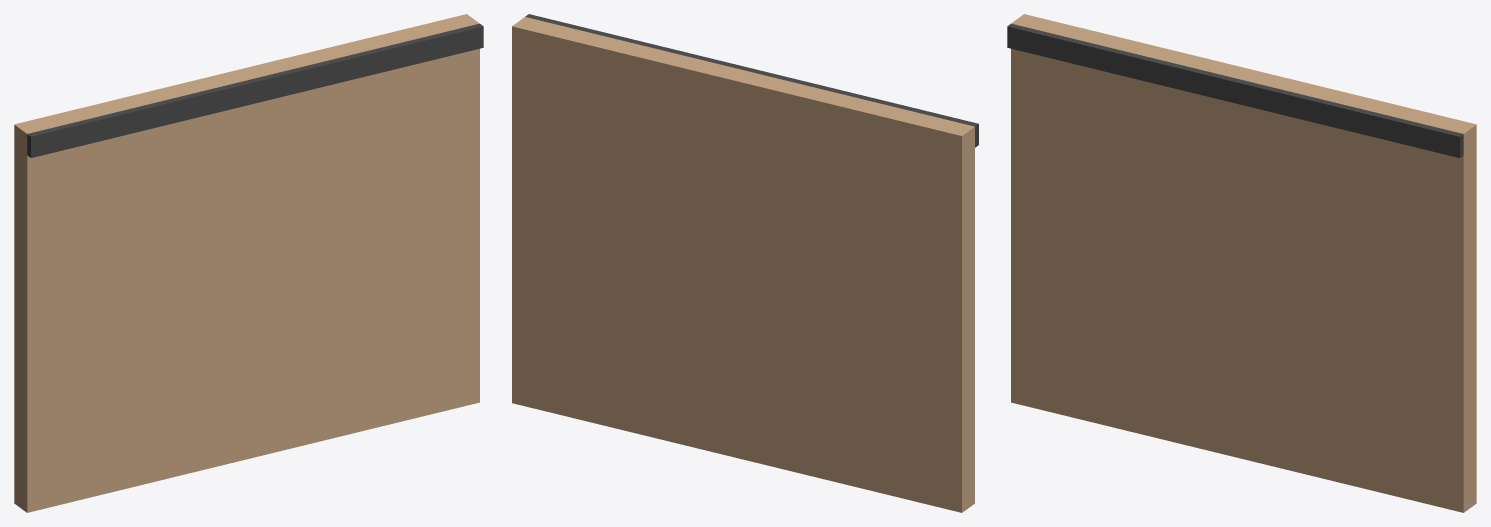
Rendered from KIT_Wall_4m_Plain_Warm.glb.
The picture shows the model from 3 angles, left to right: view 1: azimuth 30°, elevation 25°; view 2: azimuth 150°, elevation 25°; view 3: azimuth 330°, elevation 25°; orthographic projection.
Visible parts, largest first — view 1: KIT_Wall_4m_Plain_Warm; view 2: KIT_Wall_4m_Plain_Warm; view 3: KIT_Wall_4m_Plain_Warm.
Boxes of the visible parts, x1=… form: KIT_Wall_4m_Plain_Warm: x1=14, y1=14, x2=483, y2=512; KIT_Wall_4m_Plain_Warm: x1=512, y1=14, x2=978, y2=512; KIT_Wall_4m_Plain_Warm: x1=1007, y1=14, x2=1476, y2=512.
Bounding box in the file's own units: 4 × 3.2 × 0.26.
